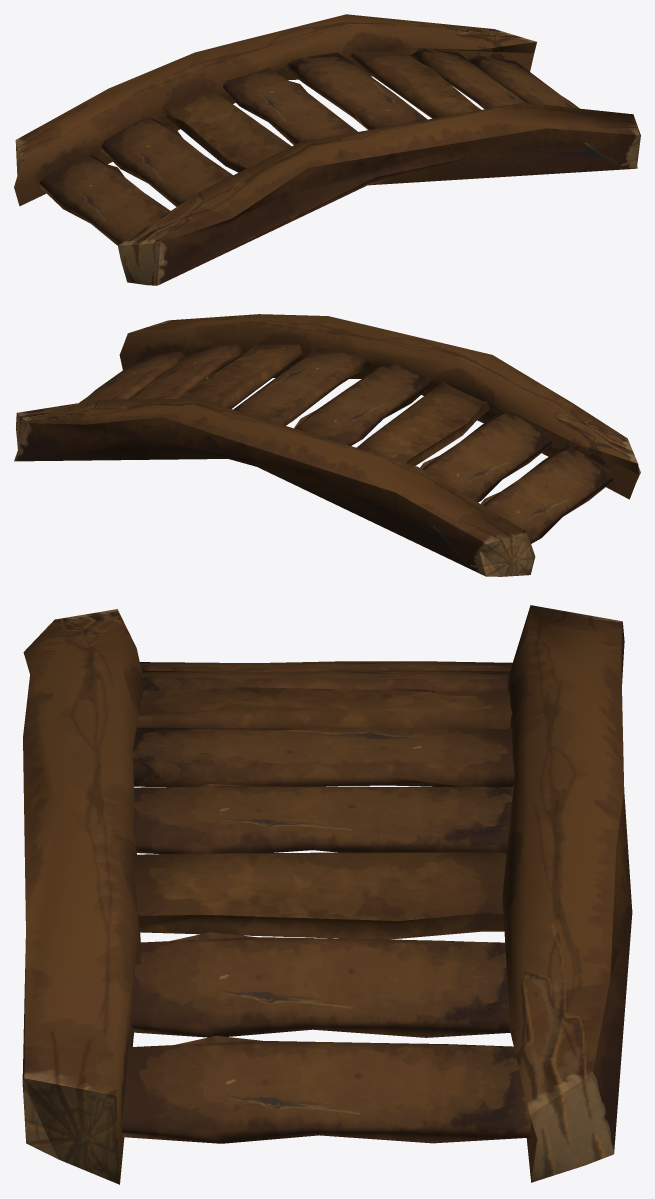
Rendered from Msh_Bridge_Env.fbx.
3 renders of one model, top to bottom at view 1: azimuth 30°, elevation 25°; view 2: azimuth 150°, elevation 25°; view 3: azimuth 270°, elevation 25°, orthographic. The views are drawn at different scales.
Parts seen in each view (by area): view 1: Bridge; view 2: Bridge; view 3: Bridge.
Part boxes in pixels (x1,y1,x2,y2): Bridge: (14,14,640,285); Bridge: (14,314,640,576); Bridge: (22,605,632,1184).
Size of the model in its own units: 51.49 by 9.29 by 26.22.
